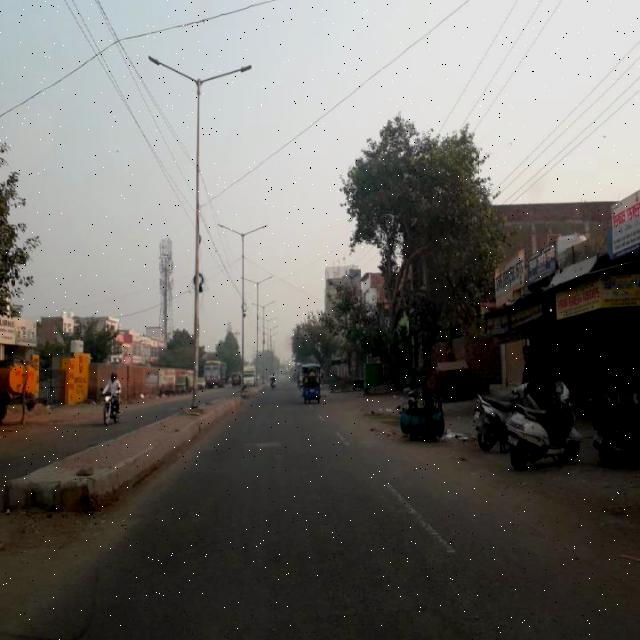D40: (324, 569, 462, 639)
D44: (386, 479, 462, 560), (306, 411, 356, 449)
